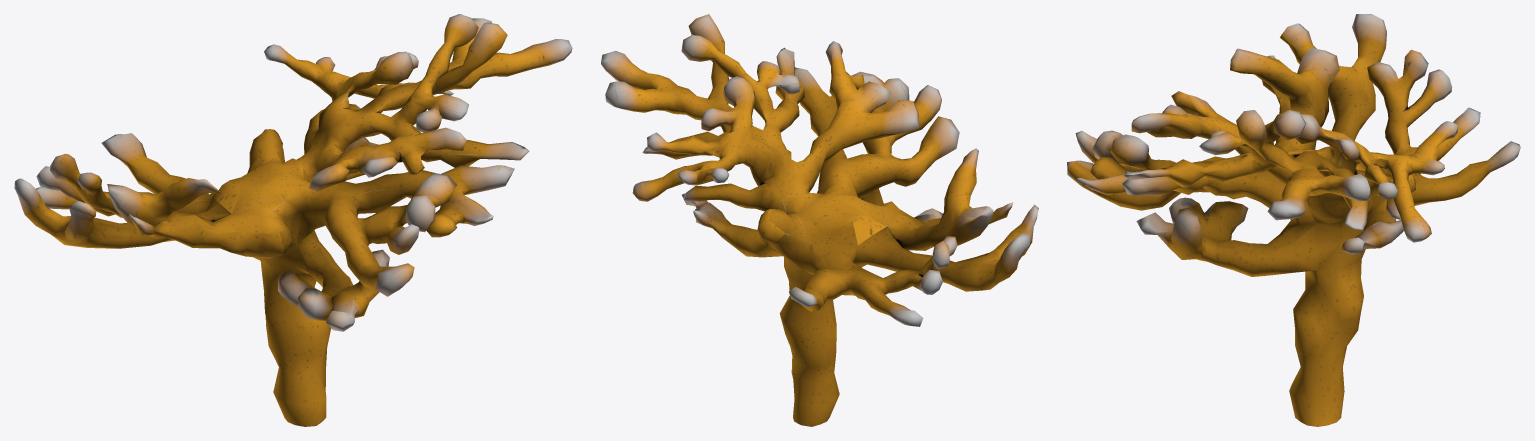
Rendered from 16-Elkhorn.fbx.
3 views of the same model, side by side, from view 1: azimuth 30°, elevation 25°; view 2: azimuth 150°, elevation 25°; view 3: azimuth 270°, elevation 25° (orthographic). The views are drawn at different scales.
Parts seen in each view (by area): view 1: 16-Elkhorn_LOD00; view 2: 16-Elkhorn_LOD00; view 3: 16-Elkhorn_LOD00.
Part boxes in pixels (bbox=[...]): 16-Elkhorn_LOD00: bbox=[14, 14, 572, 426]; 16-Elkhorn_LOD00: bbox=[601, 14, 1038, 426]; 16-Elkhorn_LOD00: bbox=[1067, 14, 1520, 426].
Size of what is drawn, in the model's own units: 142 by 102 by 110.
